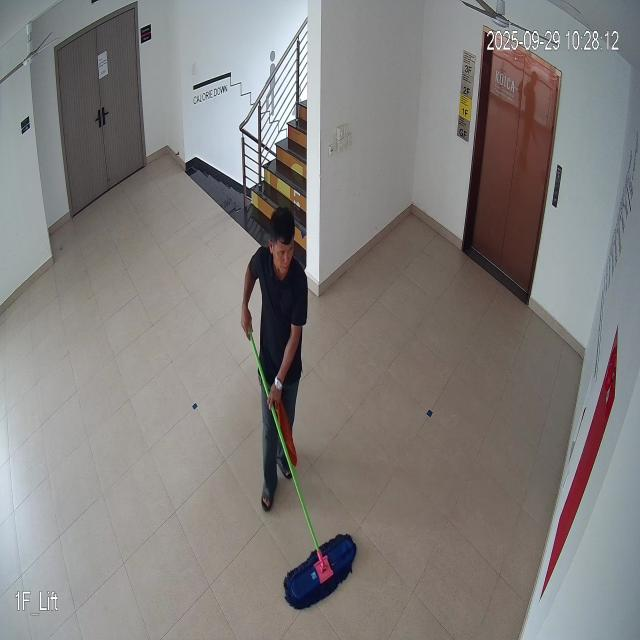face: (263, 200, 298, 282)
